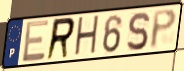6: (102, 13, 124, 54)
E: (21, 18, 50, 64)
H: (73, 13, 101, 59)
P: (149, 7, 178, 51)
R: (44, 16, 77, 63)
S: (125, 11, 151, 53)
